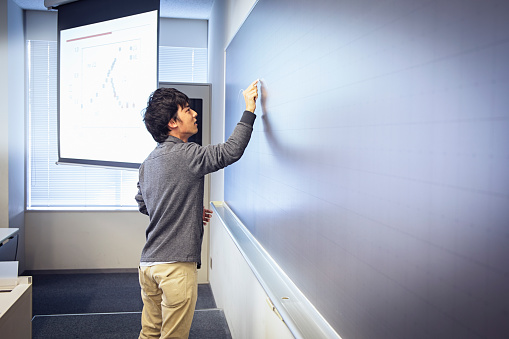em pe: (113, 86, 257, 339)
